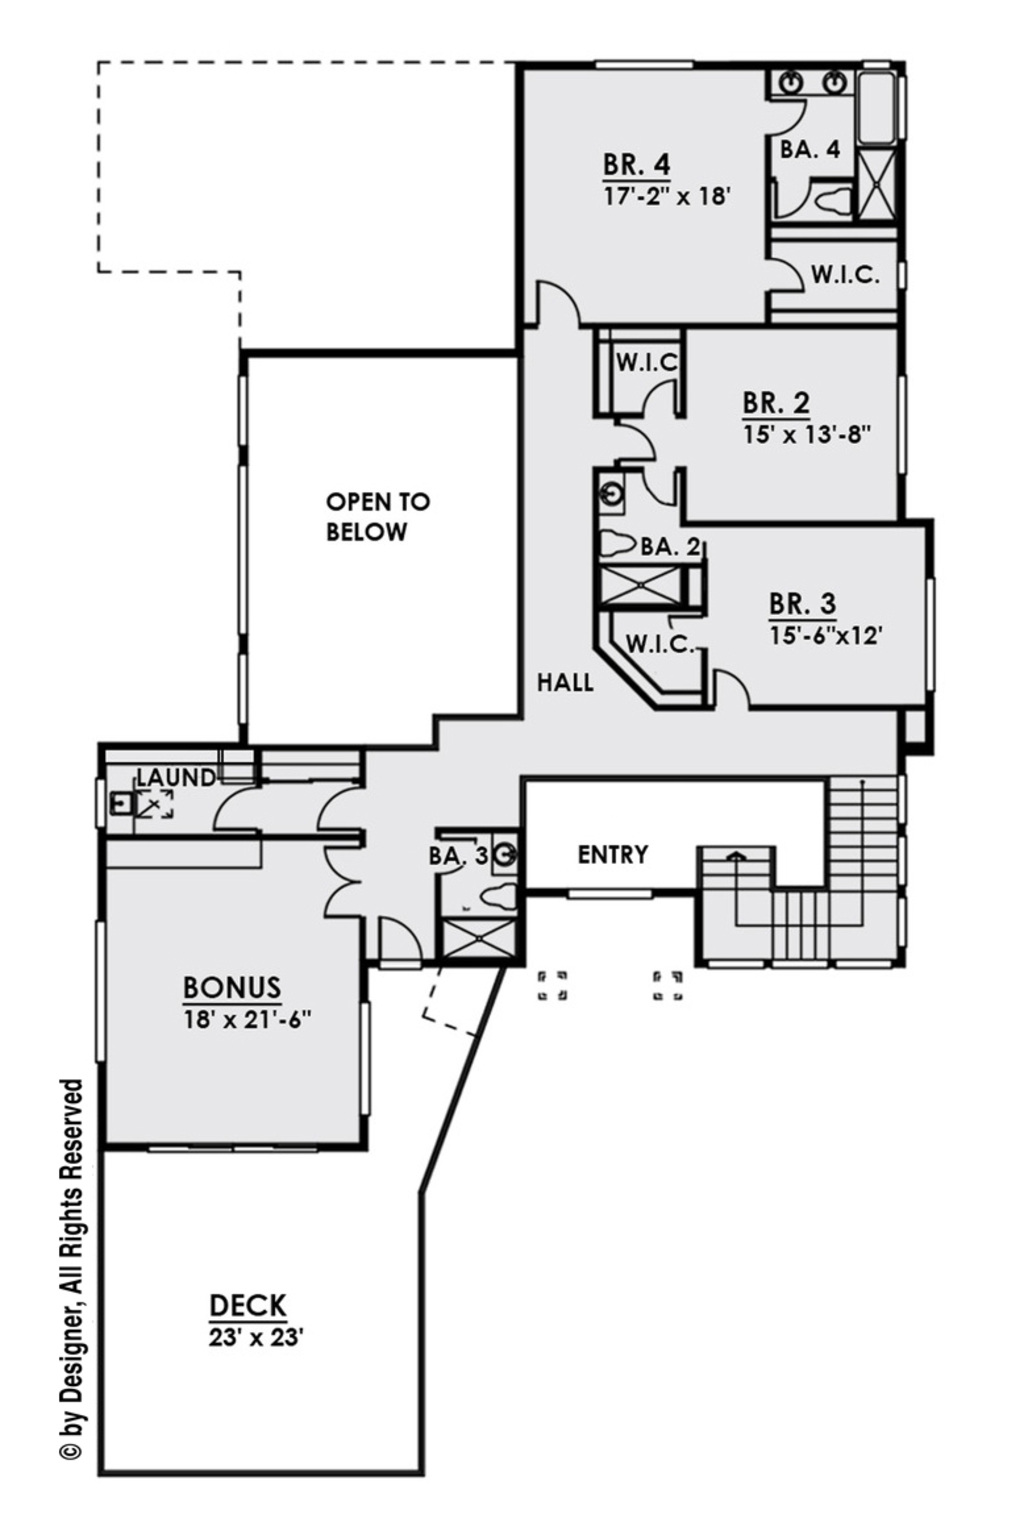door: (321, 839, 362, 926), (529, 274, 586, 331), (311, 782, 362, 838), (760, 246, 803, 307), (213, 780, 261, 834), (765, 171, 811, 223), (370, 913, 421, 960), (706, 662, 750, 715), (762, 95, 811, 139), (631, 377, 678, 416), (639, 467, 680, 511)
large_sink: (805, 183, 859, 218), (467, 876, 521, 911)
stairs: (695, 780, 898, 964)
windows: (88, 913, 118, 1069), (578, 49, 704, 82), (918, 574, 947, 698), (890, 369, 914, 483), (354, 992, 373, 1121), (559, 879, 657, 903)
